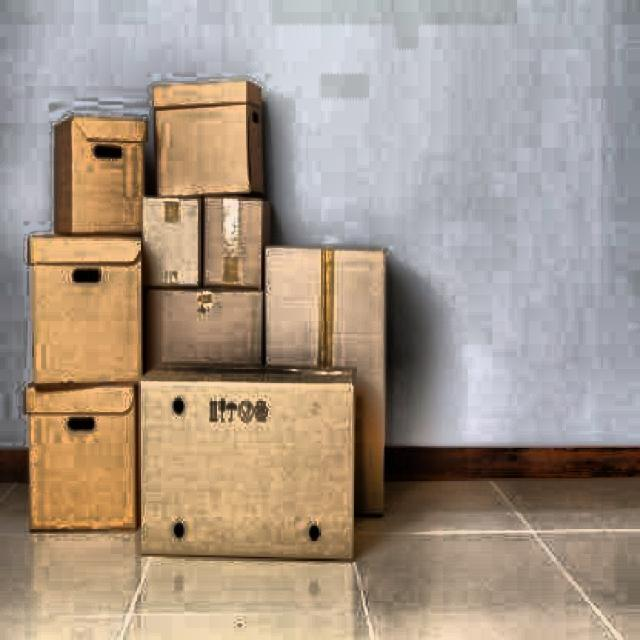Cardbox: (136, 361, 366, 575), (258, 227, 394, 522), (142, 270, 282, 528), (20, 229, 156, 391), (24, 371, 144, 533), (140, 67, 262, 198), (47, 118, 146, 260), (205, 197, 268, 306), (132, 194, 202, 290)
